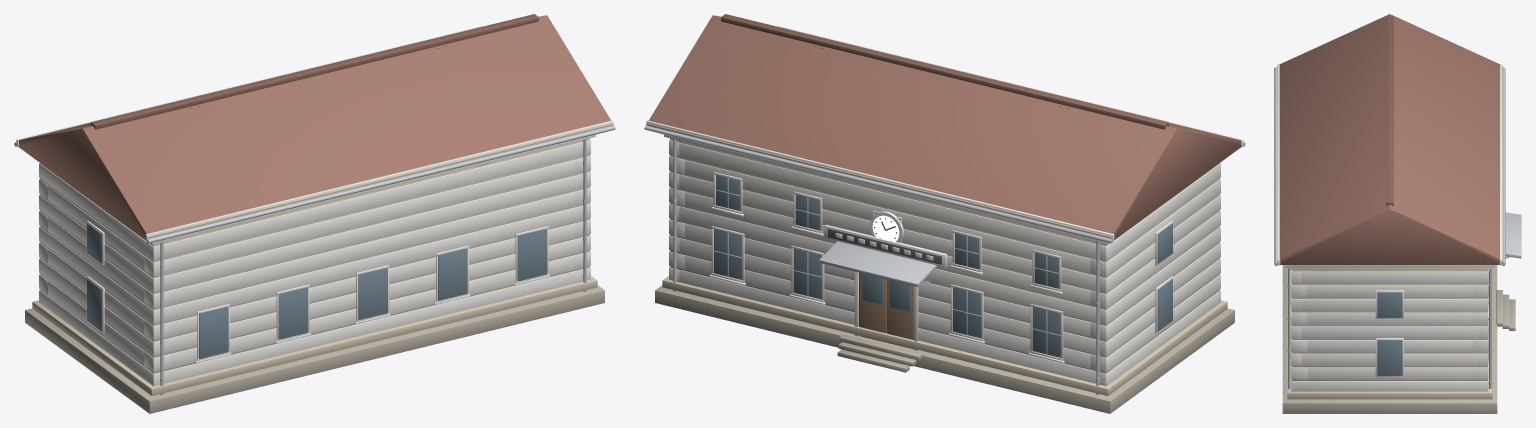
The model's file is th41_bahnhof.glb.
3 views of the same model, side by side, from view 1: azimuth 30°, elevation 25°; view 2: azimuth 150°, elevation 25°; view 3: azimuth 270°, elevation 25° (orthographic). The views are drawn at different scales.
Parts seen in each view (by area): view 1: Satteldach, Cube, Cube.002, Cube.016, Cube.020, Cube.018, Cube.014, Cube.012, Cube.001, Cube.004, Cube.213, Cube.006 (+24 smaller); view 2: Satteldach, Cube, Cube.002, Cube.038, Cube.001, Cube.036, Cube.022, Cube.030, Cube.034, Cube.213, Cube.026, Cube.024 (+37 smaller); view 3: Satteldach, Cube, Cube.002, Cube.037, Cube.029, Cube.031, Cube.035, Cube.033, Cube.001, Cube.021, Cube.023, Cube.025 (+17 smaller).
Part boxes in pixels (bbox=[...]): Satteldach: bbox=[18, 15, 610, 239]; Cube: bbox=[25, 285, 604, 413]; Cube.002: bbox=[40, 138, 589, 373]; Cube.016: bbox=[148, 172, 590, 292]; Cube.020: bbox=[153, 140, 590, 260]; Cube.018: bbox=[144, 156, 590, 276]; Cube.014: bbox=[144, 188, 590, 308]; Cube.012: bbox=[149, 203, 590, 323]; Cube.001: bbox=[32, 276, 597, 395]; Cube.004: bbox=[163, 267, 590, 383]; Cube.213: bbox=[91, 14, 538, 129]; Cube.006: bbox=[144, 251, 590, 372]; Satteldach: bbox=[649, 15, 1241, 239]; Cube: bbox=[655, 285, 1234, 413]; Cube.002: bbox=[670, 138, 1219, 373]; Cube.038: bbox=[669, 140, 1110, 260]; Cube.001: bbox=[662, 276, 1227, 395]; Cube.036: bbox=[669, 156, 1111, 276]; Cube.022: bbox=[669, 267, 1108, 386]; Cube.030: bbox=[669, 203, 1109, 324]; Cube.034: bbox=[669, 172, 1111, 292]; Cube.213: bbox=[721, 14, 1168, 129]; Cube.026: bbox=[669, 235, 1108, 356]; Cube.024: bbox=[669, 251, 1114, 372]; Satteldach: bbox=[1279, 14, 1499, 264]; Cube: bbox=[1282, 265, 1497, 413]; Cube.002: bbox=[1292, 269, 1487, 380]; Cube.037: bbox=[1291, 269, 1488, 283]; Cube.029: bbox=[1291, 325, 1488, 338]; Cube.031: bbox=[1291, 312, 1488, 324]; Cube.035: bbox=[1291, 284, 1488, 297]; Cube.033: bbox=[1291, 297, 1488, 311]; Cube.001: bbox=[1287, 267, 1492, 399]; Cube.021: bbox=[1291, 379, 1488, 391]; Cube.023: bbox=[1291, 366, 1488, 379]; Cube.025: bbox=[1291, 352, 1488, 365].
Bounding box in the file's own units: 24.6 × 12.25 × 13.14.
Materials: 12 (1 with a texture image).
